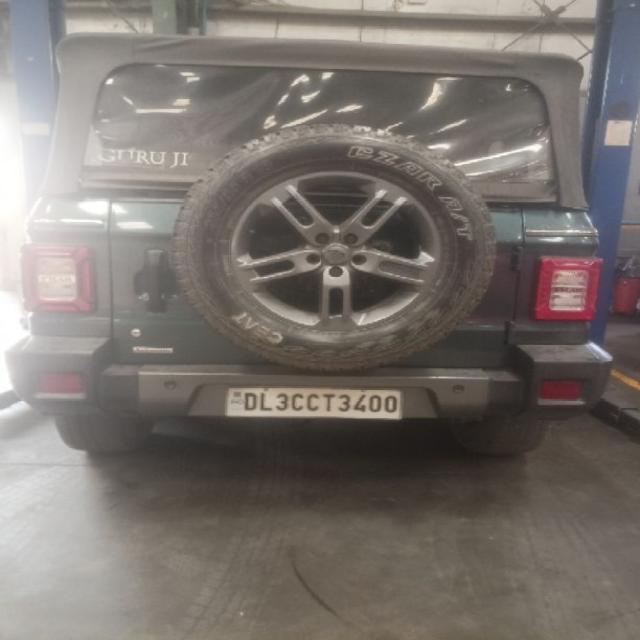license_plate: (222, 386, 404, 419)
